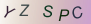C: (71, 5, 84, 19)
P: (58, 9, 70, 22)
S: (43, 4, 54, 18)
Y: (3, 4, 16, 19)
Z: (19, 3, 30, 17)
